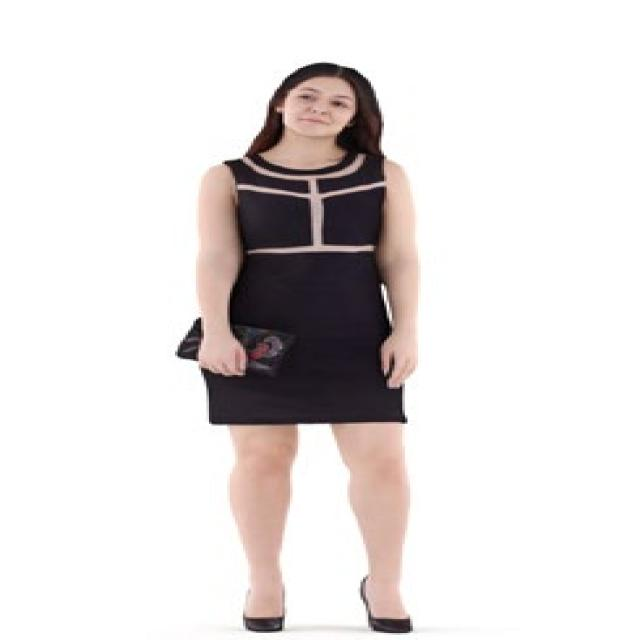standing: (172, 56, 426, 640)
